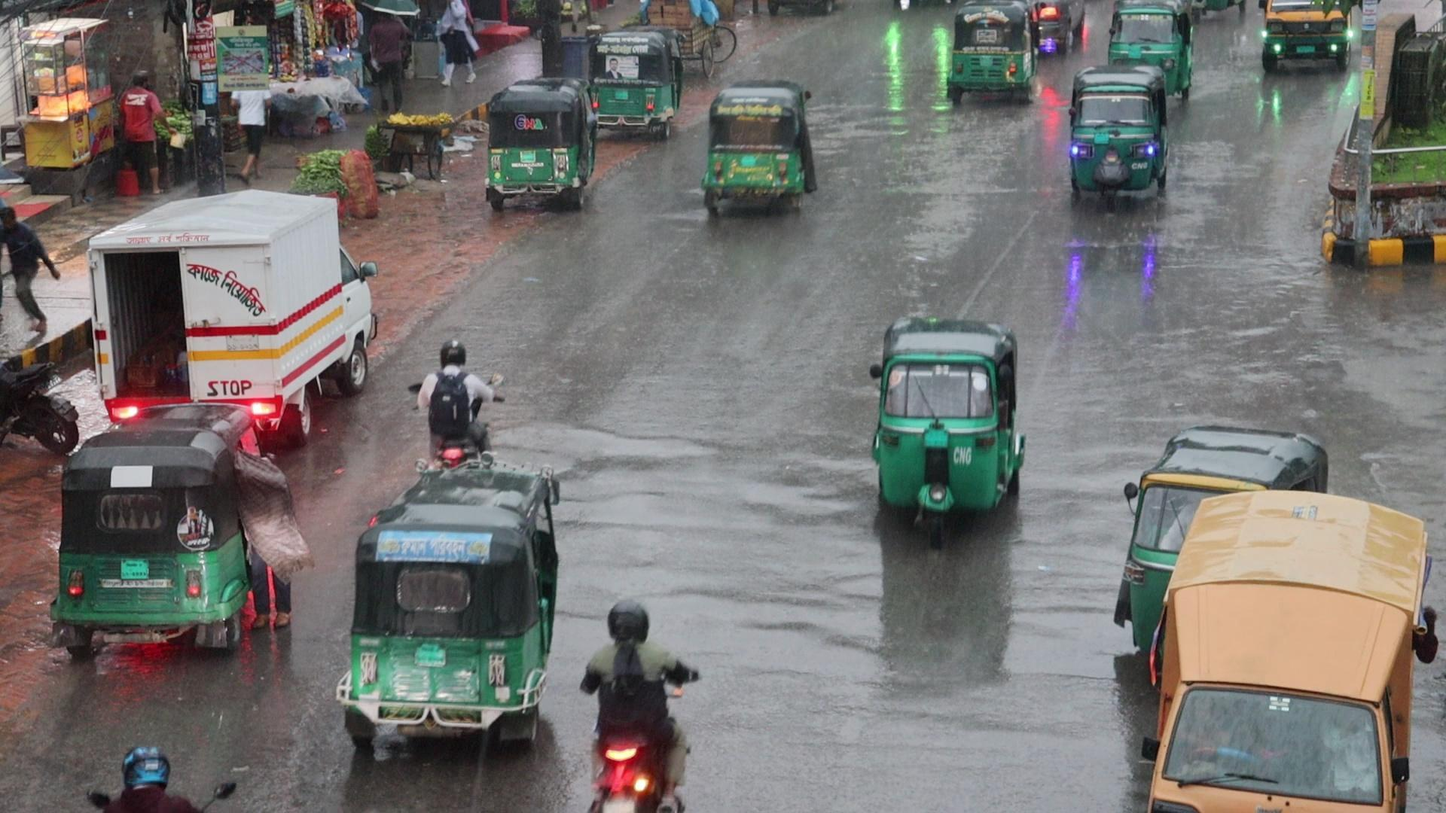Bike: (572, 597, 715, 813), (399, 333, 505, 463)
Truck: (1145, 497, 1433, 813)
